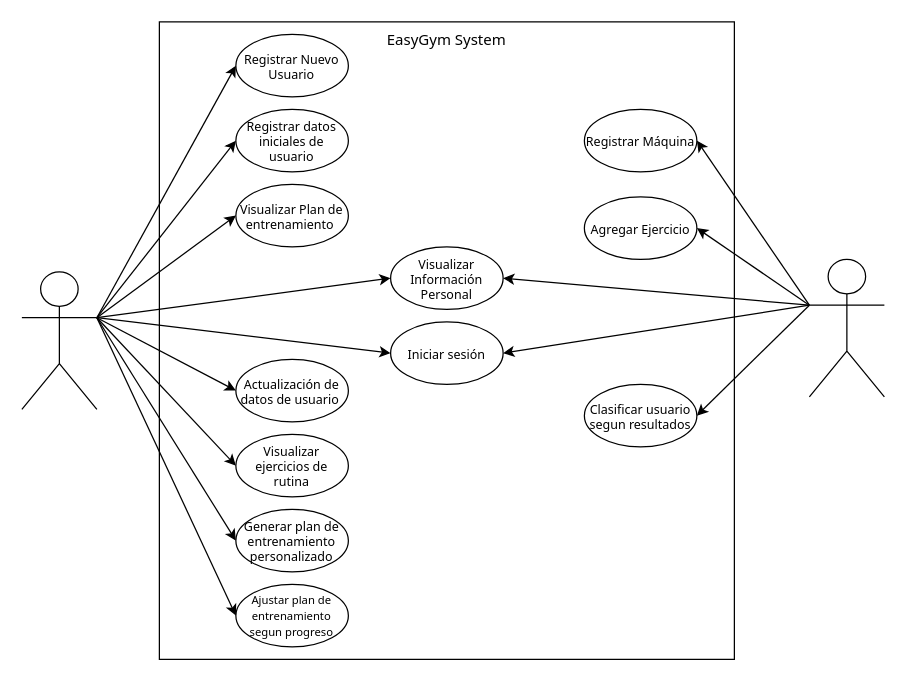
Image size: 911x681. Some labels were removed from this diagram. Here are the shapes that lost their labels. From the top down, the centre of each, then its label:
At point (59, 340): "Usuario".
At point (846, 327): "Administrador".
